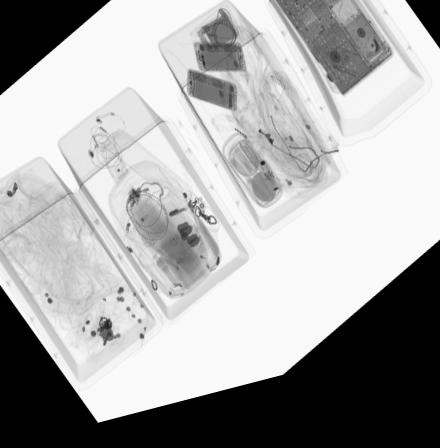Powerbank: (197, 25, 240, 65)
